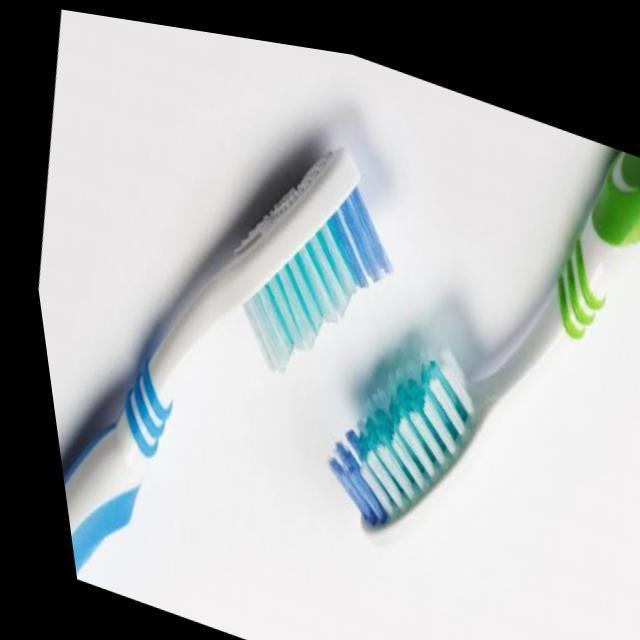toothbrush: (51, 131, 390, 576), (314, 128, 640, 542)
